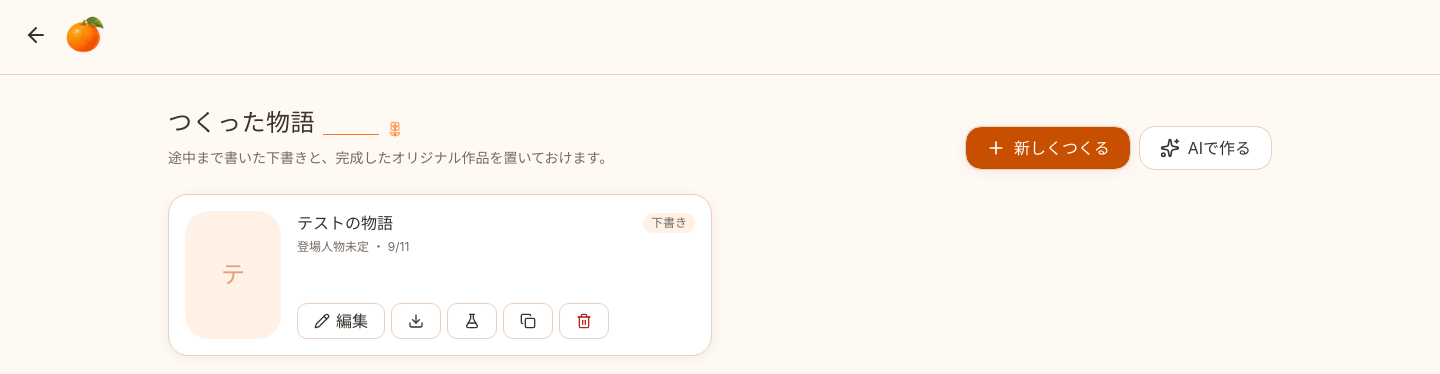
Test case: PackAuthoringScreen › 置き場の削除は二度押しで確定する
expect the text "テストの物語" is shown: met, box left=297, top=213, right=393, bottom=233
Click the button named "テストの物語を削除". click: (584, 321)
box: left=559, top=303, right=609, bottom=339
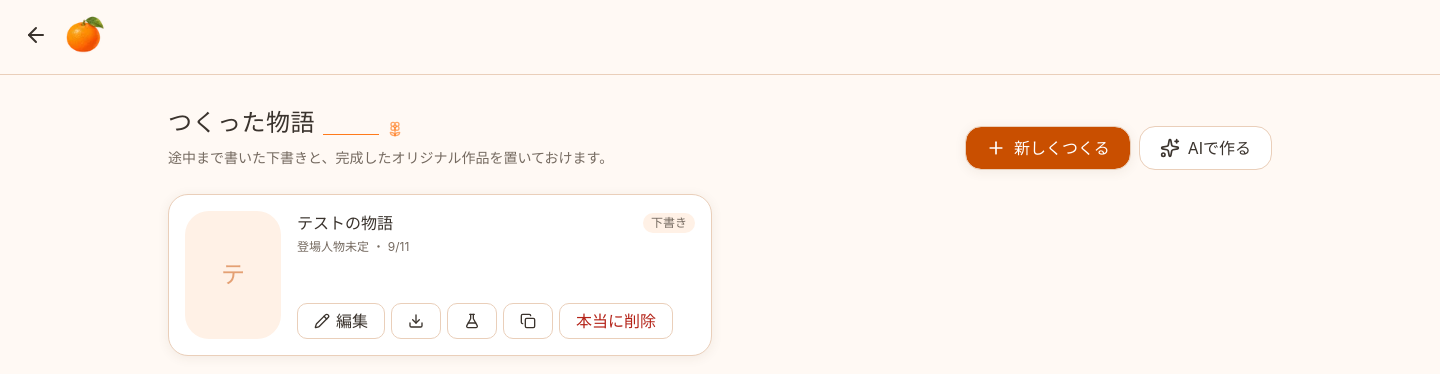
expect the button "本当に削除" is shown: met
Click the button "本当に削除". click: (616, 321)
box: left=559, top=303, right=673, bottom=339
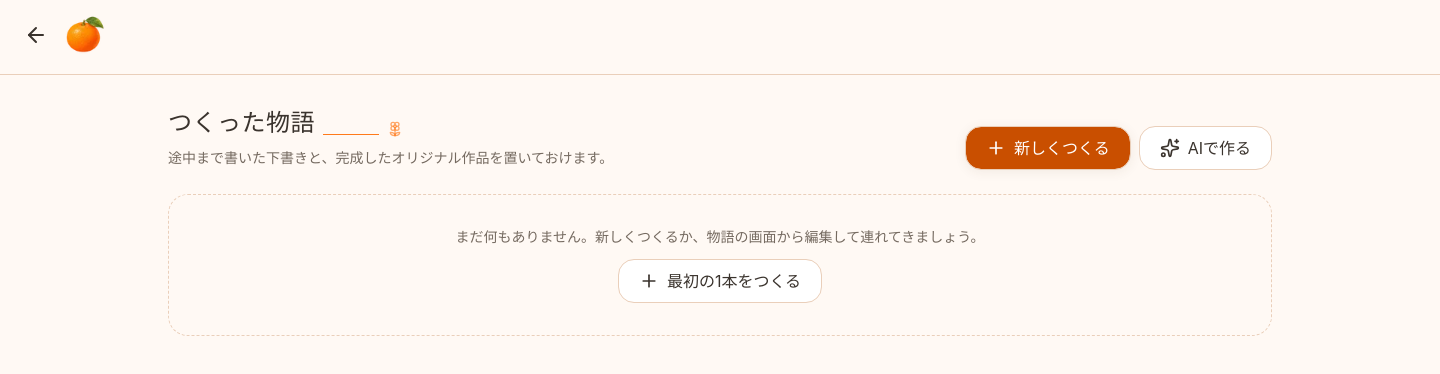
expect the text "テストの物語" is gone: met
